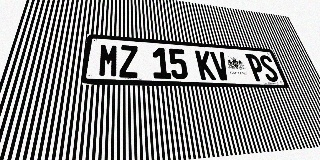1: (151, 47, 172, 79)
5: (168, 48, 189, 79)
K: (195, 50, 216, 80)
M: (98, 43, 119, 78)
P: (245, 54, 267, 81)
S: (258, 55, 280, 82)
V: (210, 51, 232, 81)
Z: (119, 45, 139, 78)
